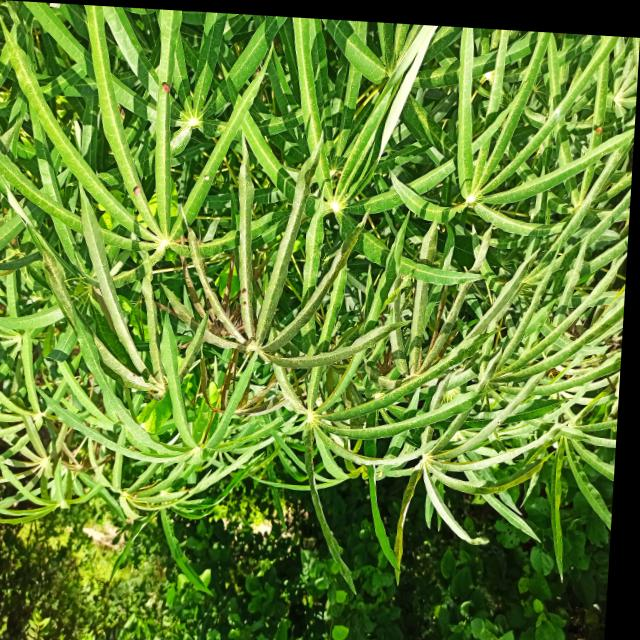Mosca: (124, 180, 144, 198), (238, 283, 249, 310), (155, 77, 173, 93), (594, 118, 606, 137), (201, 171, 213, 185)
